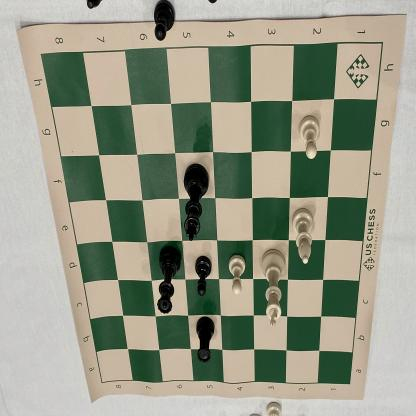black-king: (182, 161, 210, 245)
black-pawn: (193, 254, 213, 296)
black-queen: (158, 245, 182, 319)
black-rook: (195, 314, 217, 366)
white-bishop: (291, 206, 317, 266)
white-king: (260, 247, 288, 329)
white-pawn: (298, 112, 322, 161), (228, 253, 247, 297)
